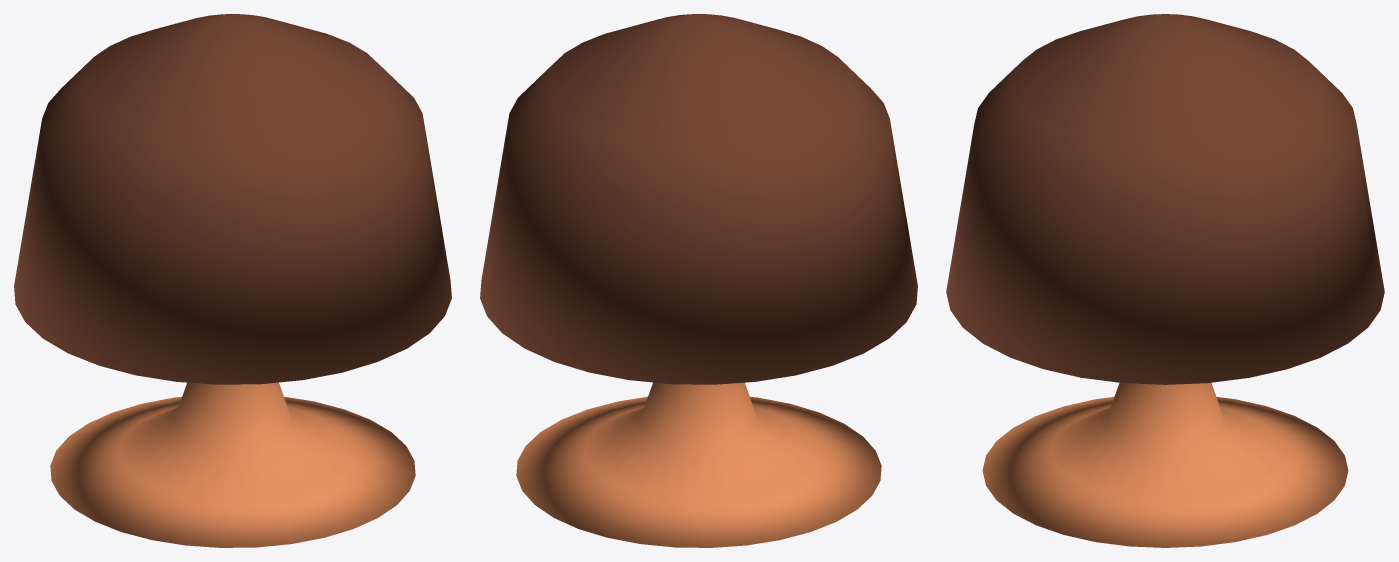
The model's file is champignon012.fbx.
3 renders of one model, left to right at view 1: azimuth 30°, elevation 25°; view 2: azimuth 150°, elevation 25°; view 3: azimuth 270°, elevation 25°, orthographic.
Visible parts, largest first — view 1: Cube; view 2: Cube; view 3: Cube.
Part boxes in pixels (x1,y1,x2,y2): Cube: (14, 14, 451, 547); Cube: (480, 14, 917, 547); Cube: (946, 14, 1384, 547).
Bounding box in the file's own units: 142 × 163 × 142.
